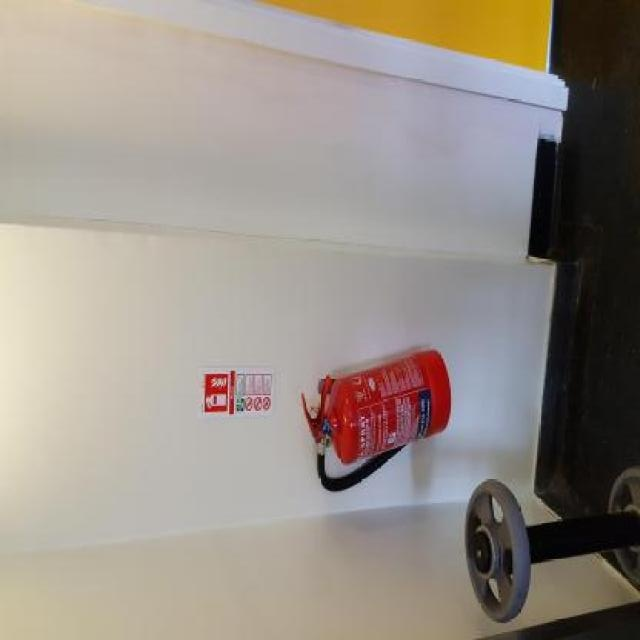fire extinguisher: (301, 347, 451, 490)
